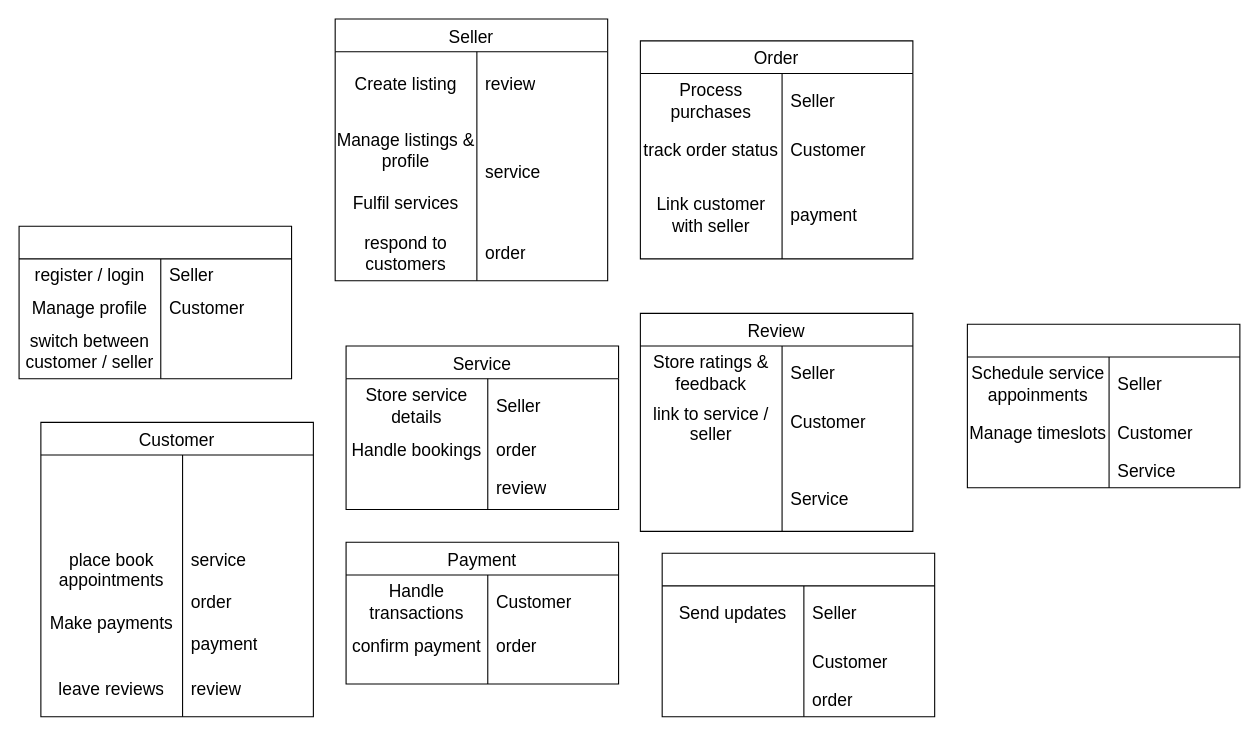
The diagram is 1259 pixels wide and 736 high, and some of its shapes have lost their labels. The shapes that lost their labels are listed below. From the top down, each one's box as (x1, y1, x2, y2) in pixels, then its label:
(18, 225, 292, 379): User
(966, 323, 1240, 488): Booking
(661, 552, 935, 717): Notifications
